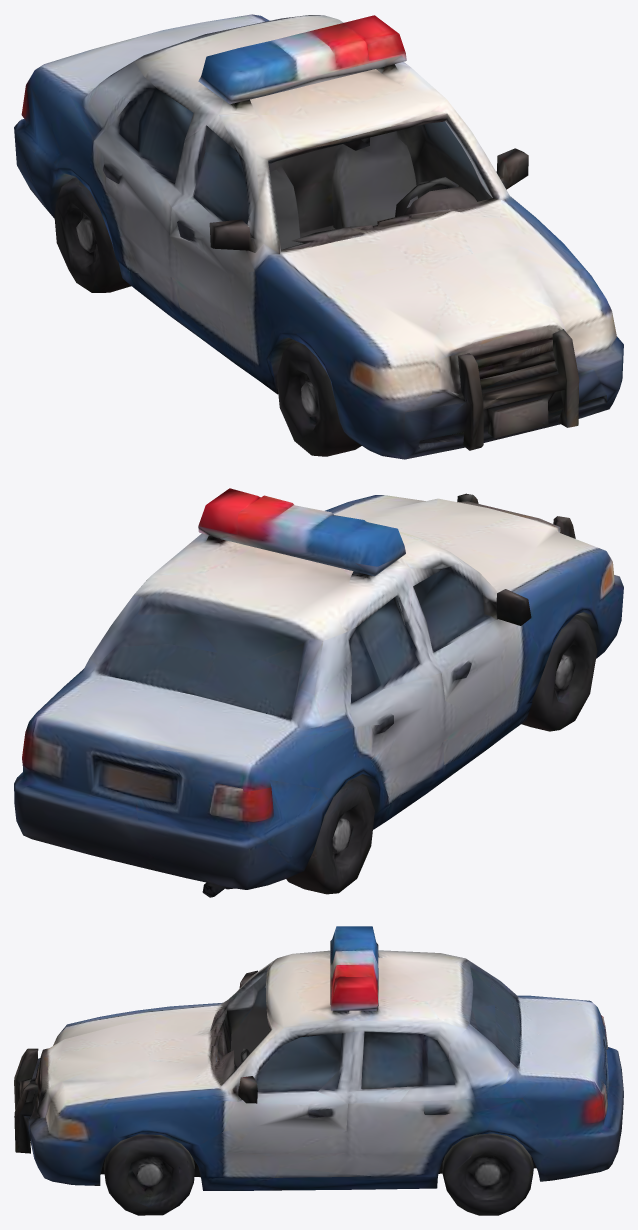
The model's file is police.glb.
The picture shows the model from 3 angles, top to bottom: view 1: azimuth 30°, elevation 25°; view 2: azimuth 150°, elevation 25°; view 3: azimuth 270°, elevation 25°; orthographic projection. The views are drawn at different scales.
Parts seen in each view (by area): view 1: body; view 2: body; view 3: body.
Part boxes in pixels (box(x1,y1,x2,y2)): body: box(14, 14, 623, 459); body: box(14, 488, 623, 897); body: box(14, 926, 623, 1215).
Bounding box in the file's own units: 1.78 × 1.5 × 3.9.
1 material, 1 textured.
